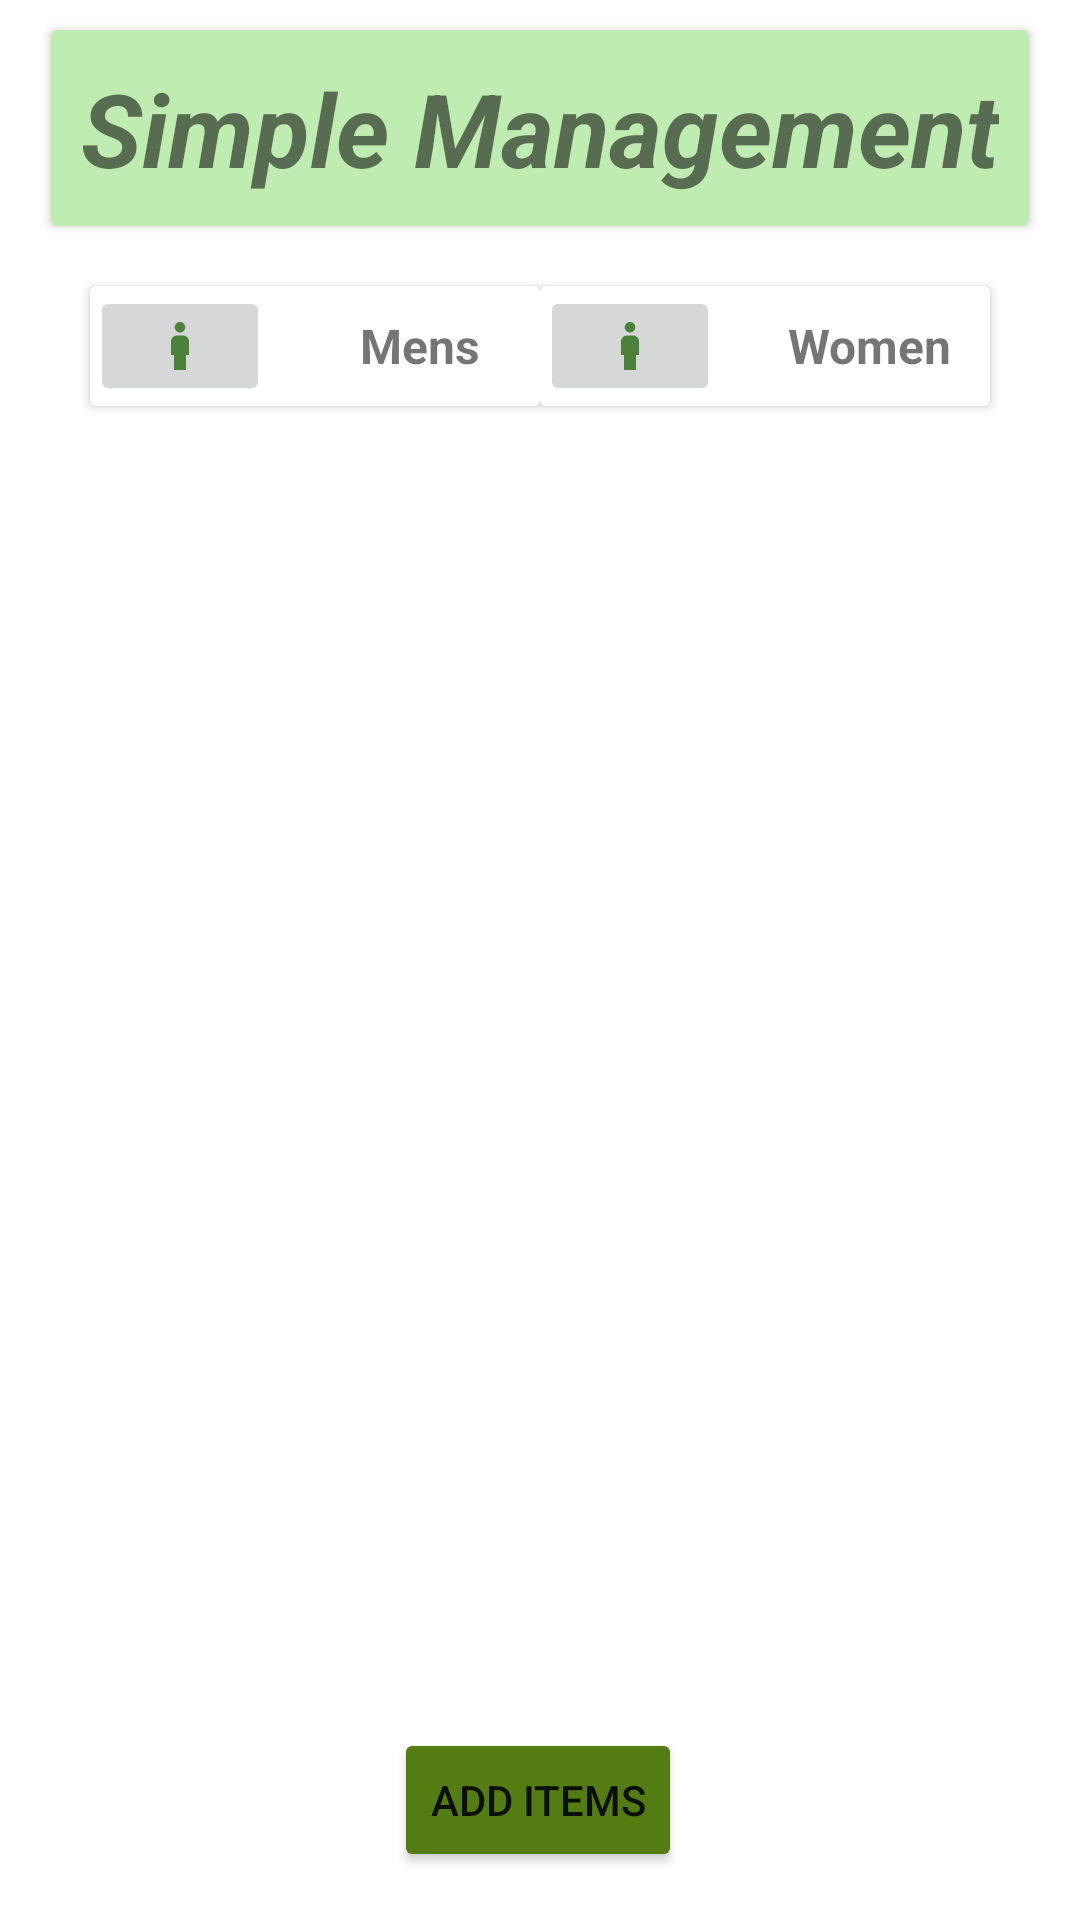

Where icons sit on this 1080 x 1920 app screen, as (x1, y1, x2, y2):
boy: (540, 288, 708, 388), (102, 304, 258, 388)
